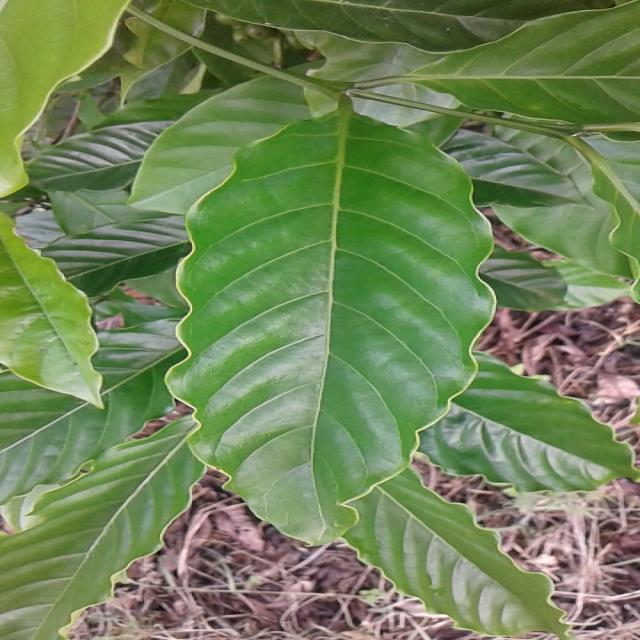Sanas: (164, 110, 497, 547)
